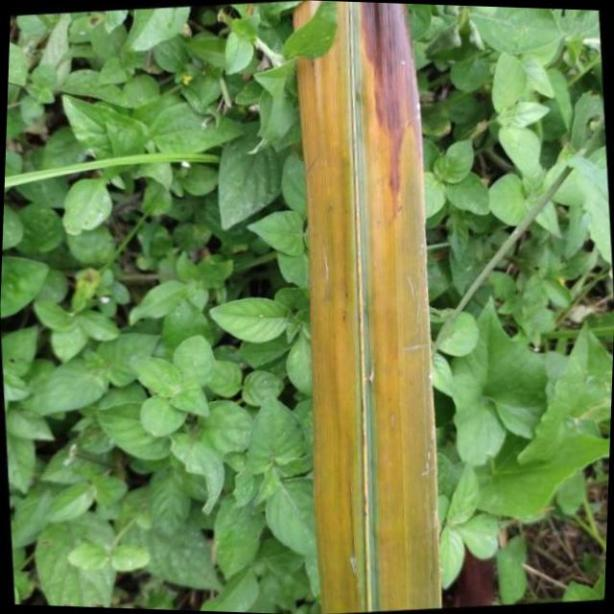Megnesium: (289, 0, 443, 614)
